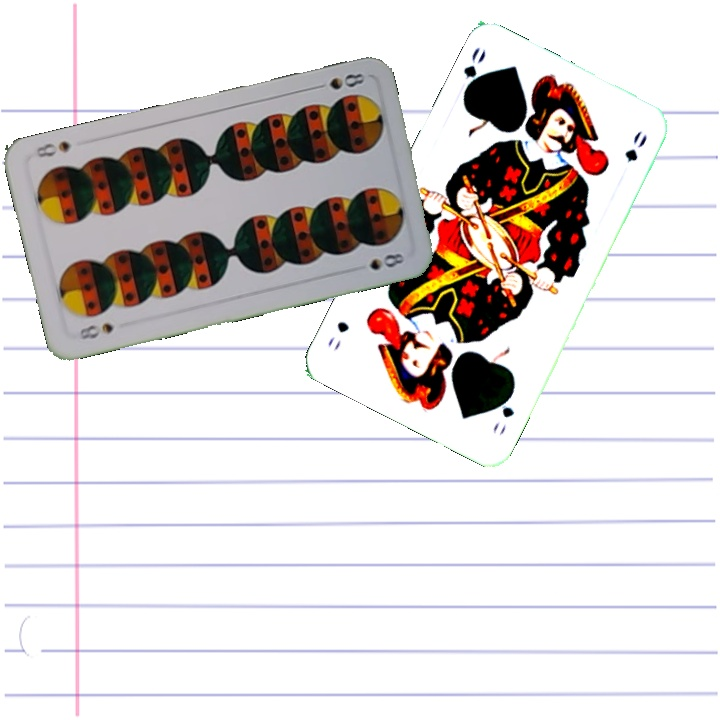GO: (459, 42, 489, 101), (488, 386, 517, 438)
S8: (309, 69, 368, 92), (75, 319, 117, 342)
